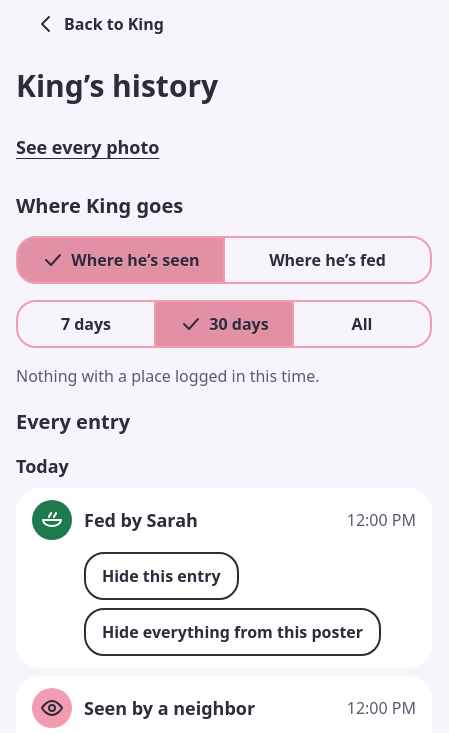
HistoryPage — hiding, for admins › names an unnamed poster and counts one entry and no spots
This screenshot has width=449, height=733.
Click the button "Hide everything from this poster" at (233, 632), box left=84, top=608, right=381, bottom=656
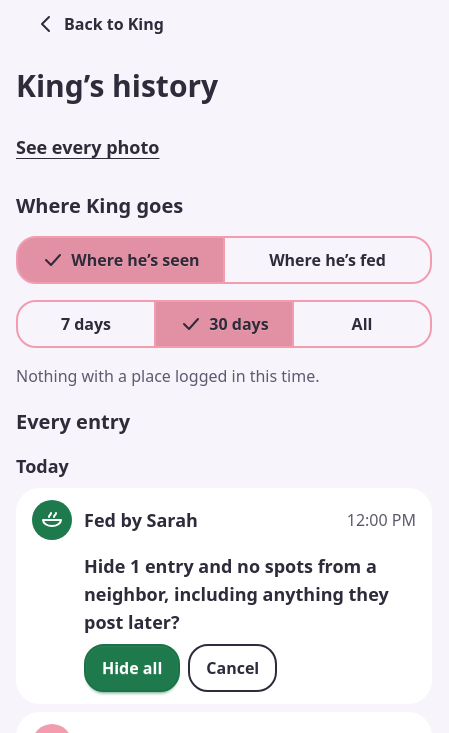
Now the text "Hide 1 entry and no spots from a neighbor, including anything they post later?" is shown, box left=84, top=552, right=416, bottom=636
